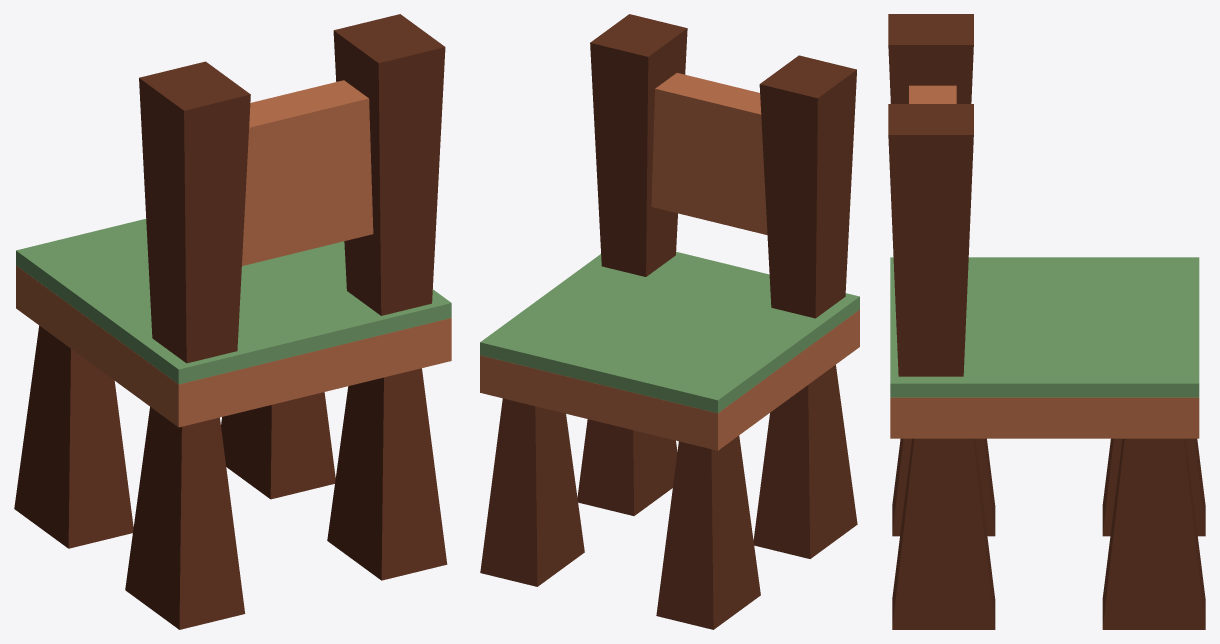
The model's file is chair_asset.fbx.
3 views of the same model, side by side, from view 1: azimuth 30°, elevation 25°; view 2: azimuth 150°, elevation 25°; view 3: azimuth 270°, elevation 25° (orthographic). The views are drawn at different scales.
Visible parts, largest first — view 1: Cube.005; view 2: Cube.005; view 3: Cube.005.
Boxes of the visible parts, left/top/right/bottom form: Cube.005: left=14, top=14, right=451, bottom=629; Cube.005: left=480, top=14, right=859, bottom=629; Cube.005: left=888, top=14, right=1205, bottom=629.
Bounding box in the file's own units: 44.64 × 81.26 × 47.38.
Materials: 3 (3 with a texture image).
